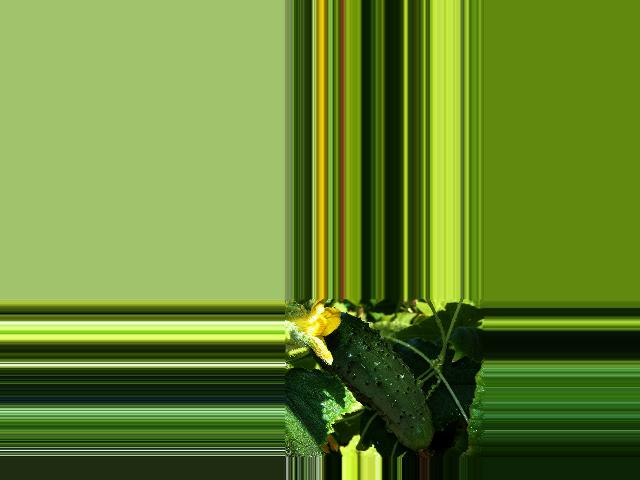cucumber: (310, 312, 435, 458)
